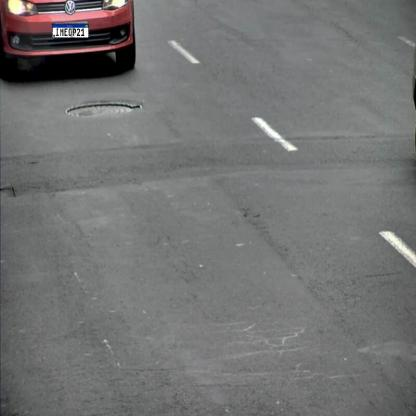PlacaM: (52, 24, 89, 38)
